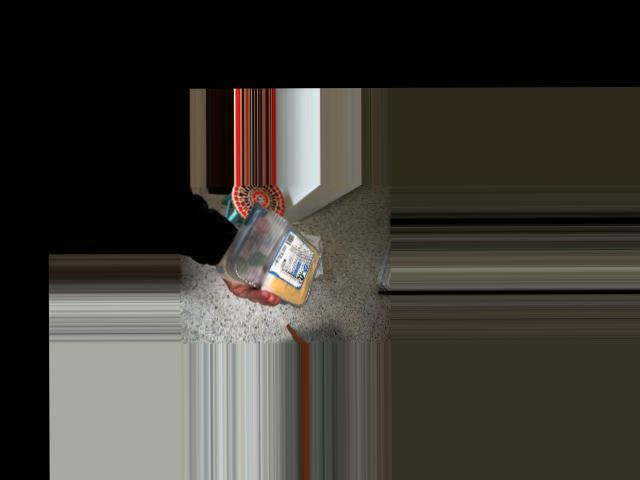cheese: (223, 200, 330, 294)
